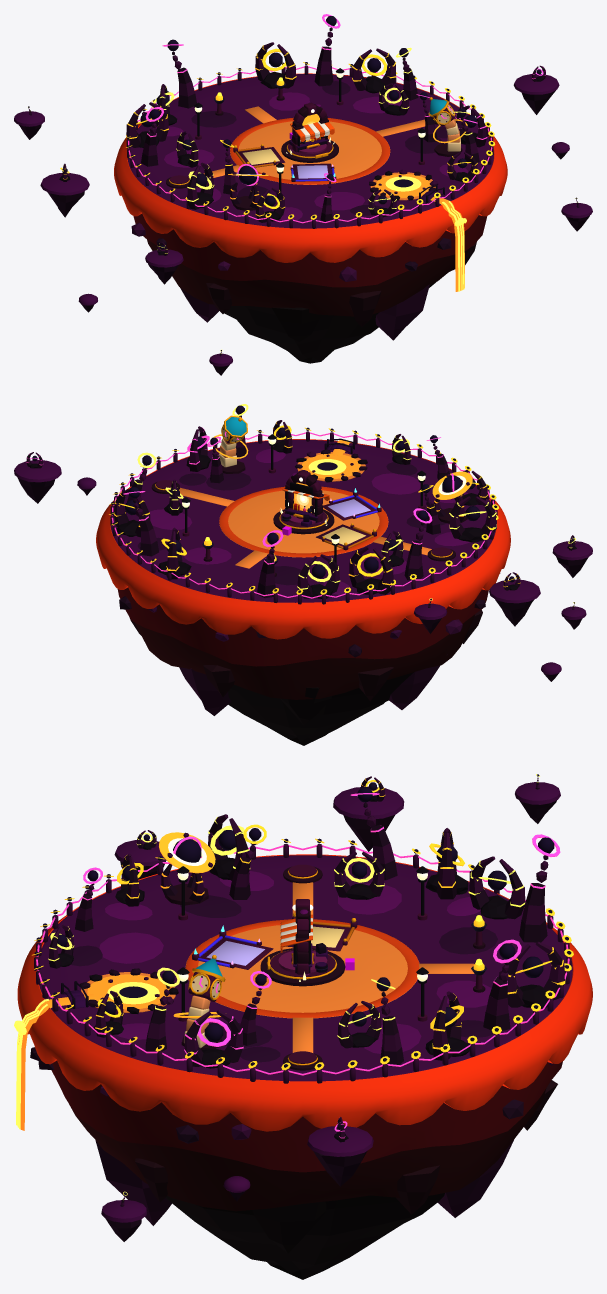
Rendered from black_hole_island.fbx.
3 views of the same model, one above another, from view 1: azimuth 30°, elevation 25°; view 2: azimuth 150°, elevation 25°; view 3: azimuth 270°, elevation 25° (orthographic). The views are drawn at different scales.
Visible parts, largest first — view 1: BlackHole_Island, BlackHole_Trees, BlackHole_Paths, BlackHole_Glow, BlackHole_Dressing, BlackHole_FloatingRocks, BlackHole_BossPlinth, BlackHole_Stall, BlackHole_Portal; view 2: BlackHole_Island, BlackHole_Trees, BlackHole_Paths, BlackHole_Glow, BlackHole_Dressing, BlackHole_FloatingRocks, BlackHole_Stall, BlackHole_Portal, BlackHole_BossPlinth; view 3: BlackHole_Island, BlackHole_Trees, BlackHole_Paths, BlackHole_Glow, BlackHole_Dressing, BlackHole_FloatingRocks, BlackHole_BossPlinth, BlackHole_Stall, BlackHole_Portal.
Part boxes in pixels (box(x1,y1,x2,y2)): BlackHole_Island: box(114, 73, 507, 363); BlackHole_Trees: box(126, 16, 486, 222); BlackHole_Paths: box(166, 106, 437, 188); BlackHole_Glow: box(60, 14, 576, 353); BlackHole_Dressing: box(126, 62, 493, 228); BlackHole_FloatingRocks: box(14, 65, 592, 375); BlackHole_BossPlinth: box(281, 139, 338, 162); BlackHole_Stall: box(289, 122, 334, 152); BlackHole_Portal: box(286, 102, 334, 154); BlackHole_Island: box(96, 439, 510, 745); BlackHole_Trees: box(114, 405, 495, 598); BlackHole_Paths: box(151, 480, 455, 568); BlackHole_Glow: box(26, 404, 575, 606); BlackHole_Dressing: box(110, 415, 497, 604); BlackHole_FloatingRocks: box(14, 452, 592, 681); BlackHole_Stall: box(282, 482, 329, 526); BlackHole_Portal: box(280, 470, 327, 525); BlackHole_BossPlinth: box(273, 509, 334, 534); BlackHole_Island: box(17, 854, 592, 1279); BlackHole_Trees: box(49, 787, 564, 1068); BlackHole_Paths: box(185, 864, 474, 1070); BlackHole_Glow: box(14, 774, 573, 1199); BlackHole_Dressing: box(34, 832, 571, 1083); BlackHole_FloatingRocks: box(101, 774, 560, 1241); BlackHole_BossPlinth: box(260, 948, 345, 986); BlackHole_Stall: box(280, 910, 327, 973); BlackHole_Portal: box(292, 899, 313, 981).
Bounding box in the file's own units: 181 × 94.71 × 123.
